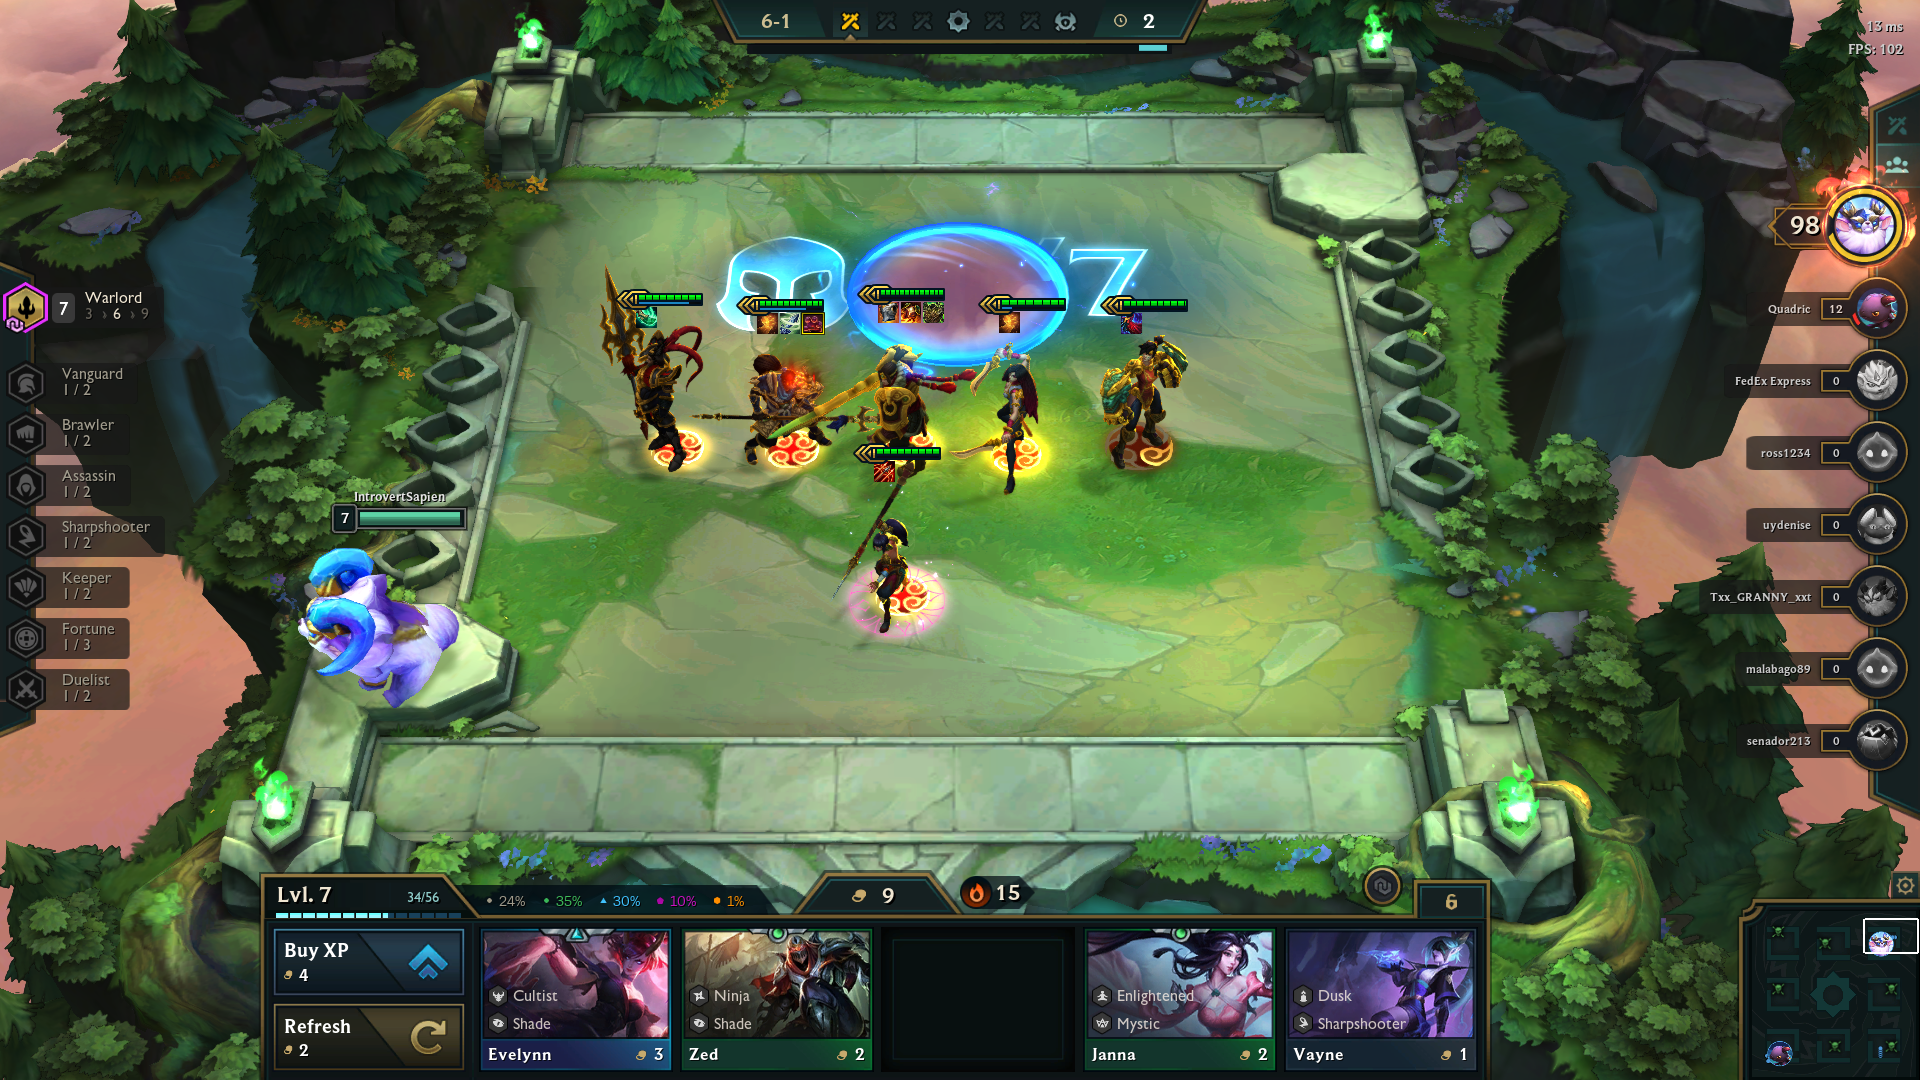3star_garen: (752, 272, 975, 498)
3star_jarvaniv: (583, 258, 716, 500)
3star_katarina: (945, 287, 1083, 504)
3star_nidalee: (825, 436, 963, 651)
3star_nidalee_chosen: (824, 436, 961, 651)
3star_vi: (1073, 284, 1211, 500)
3star_xinzhao: (688, 281, 893, 500)
item_gargoyle: (873, 294, 909, 326)
item_hoj: (992, 309, 1026, 340), (750, 307, 785, 339)
item_runaan: (866, 455, 902, 487)
item_shojin: (628, 301, 663, 334)
item_shroud: (1116, 306, 1150, 338)
item_sunfire: (893, 295, 928, 327)
item_thief: (794, 305, 829, 338)
item_warmogs: (915, 295, 949, 327)
item_zephyr: (771, 307, 807, 339)
trait_assassin1: (1, 450, 177, 514)
trait_brawler1: (1, 396, 177, 460)
trait_duelist1: (1, 655, 177, 719)
trait_fortune1: (1, 603, 177, 666)
trait_keeper1: (1, 555, 177, 618)
trait_sharpshooter1: (1, 502, 177, 567)
trait_vanguard1: (1, 349, 177, 413)
trait_warlord7: (1, 276, 177, 340)
trait_warlord_chosen: (1, 272, 54, 338)
